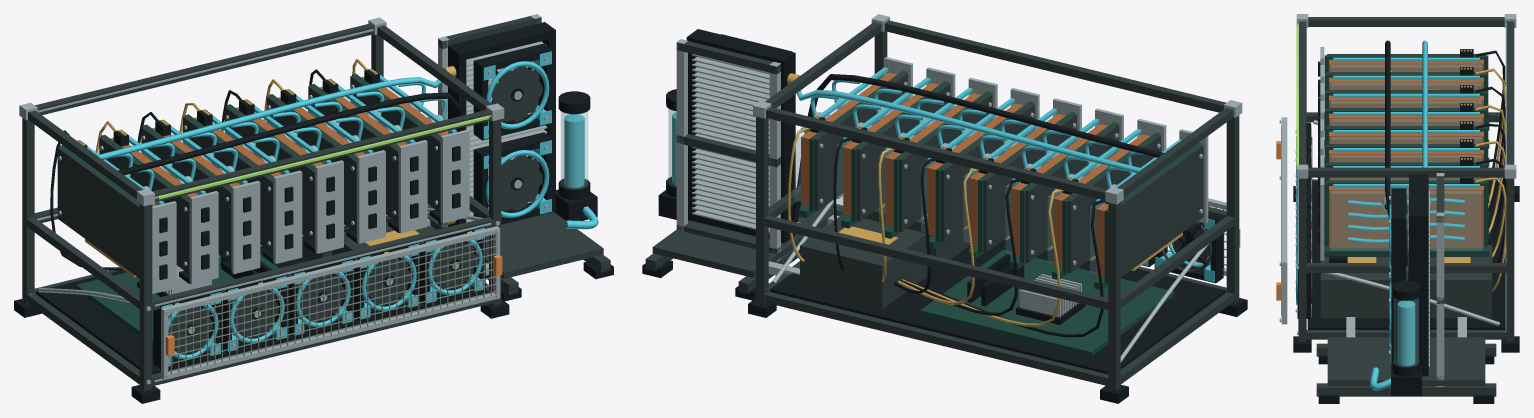
The model's file is rig-8-mesh-liquid.glb.
3 views of the same model, side by side, from view 1: azimuth 30°, elevation 25°; view 2: azimuth 150°, elevation 25°; view 3: azimuth 270°, elevation 25° (orthographic). The views are drawn at different scales.
Parts seen in each view (by area): view 1: Anodized graphite (×9), Brushed aluminium (×11), Rubber and ABS (×17), gpu-liquid (×8), Coolant blue (×9), Filter fibres, Circuit board, cooling-liquid, rig-8-mesh-liquid; view 2: Anodized graphite (×2), gpu-liquid (×8), Rubber and ABS (×4), Brushed aluminium (×10), Circuit board, Coolant blue, slot-cable-1, slot-cable-2, slot-cable-3, slot-cable-4, cooling-liquid, slot-cable-5; view 3: Anodized graphite (×2), gpu-liquid (×8), Rubber and ABS (×7), Coolant blue (×11), Brushed aluminium (×4), cooling-liquid, Circuit board, rig-8-mesh-liquid, slot-cable-1, slot-cable-8, slot-cable-2, slot-cable-3 (+4 smaller).
Part boxes in pixels (x1,y1,x2,y2): Anodized graphite (×9): (22,16,610,390); Brushed aluminium (×11): (19,14,547,384); Rubber and ABS (×17): (14,22,613,403); gpu-liquid (×8): (57,73,450,278); Coolant blue (×9): (97,51,598,366); Filter fibres: (168,235,496,374); Circuit board: (76,254,304,345); cooling-liquid: (561,111,587,189); rig-8-mesh-liquid: (158,116,489,199); Anodized graphite (×2): (645,20,1239,390); gpu-liquid (×8): (795,70,1203,283); Rubber and ABS (×4): (642,29,1247,403); Brushed aluminium (×10): (676,14,1242,362); Circuit board: (798,205,1174,356); Coolant blue: (797,80,1147,188); slot-cable-1: (902,200,1105,337); slot-cable-2: (901,189,1063,326); slot-cable-3: (900,179,1021,315); slot-cable-4: (898,168,979,304); cooling-liquid: (668,109,676,186); slot-cable-5: (894,158,937,293); Anodized graphite (×2): (1298,17,1514,396); gpu-liquid (×8): (1324,54,1488,250); Rubber and ABS (×7): (1293,40,1519,403); Coolant blue (×11): (1333,40,1479,390); Brushed aluminium (×4): (1281,14,1516,386); cooling-liquid: (1394,298,1418,366); Circuit board: (1324,121,1489,262); rig-8-mesh-liquid: (1296,24,1298,168); slot-cable-1: (1475,50,1505,193); slot-cable-8: (1475,177,1506,291); slot-cable-2: (1475,68,1505,207); slot-cable-3: (1475,86,1505,221).
Size of the model in its own units: 8.43 by 3.32 by 3.94.
